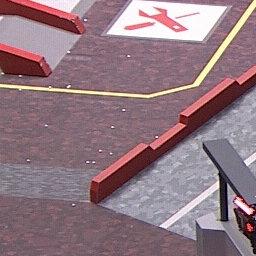Red: (234, 208, 253, 235)
